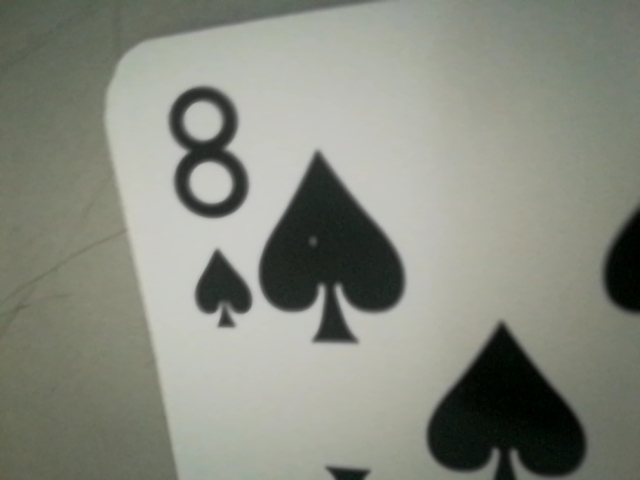ht 8: (152, 45, 272, 324)
